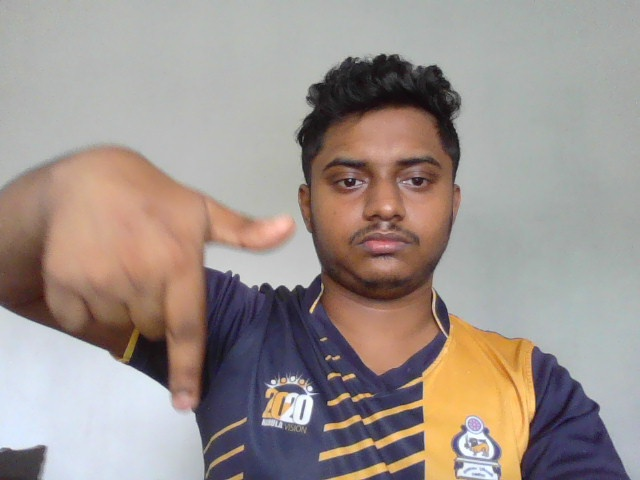Later: (41, 155, 299, 411)
